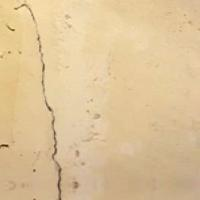crack: (3, 3, 97, 199)
